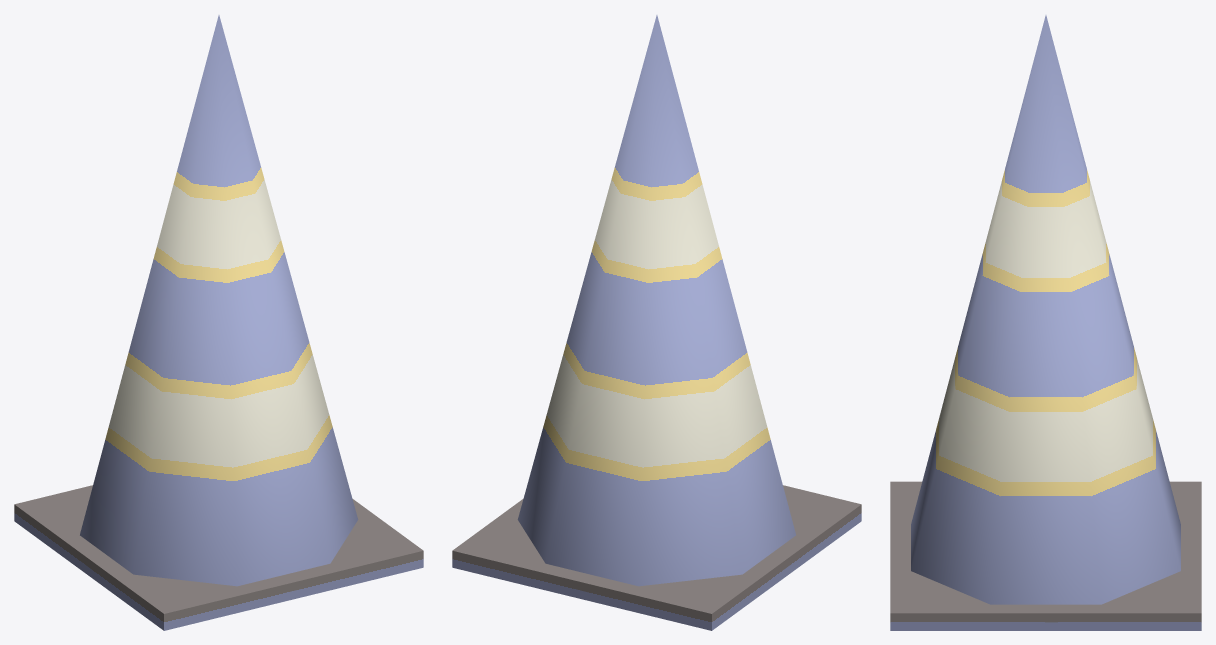
Rendered from 011b_Triangle_Pylon.glb.
3 views of the same model, side by side, from view 1: azimuth 30°, elevation 25°; view 2: azimuth 150°, elevation 25°; view 3: azimuth 270°, elevation 25° (orthographic). The views are drawn at different scales.
Parts seen in each view (by area): view 1: part_0; view 2: part_0; view 3: part_0.
Part boxes in pixels (x1=…): part_0: x1=14, y1=15, x2=423, y2=630; part_0: x1=452, y1=15, x2=861, y2=630; part_0: x1=890, y1=15, x2=1201, y2=630.
Size of the model in its own units: 0.384 by 0.75 by 0.384.
Materials: 1 (1 with a texture image).
